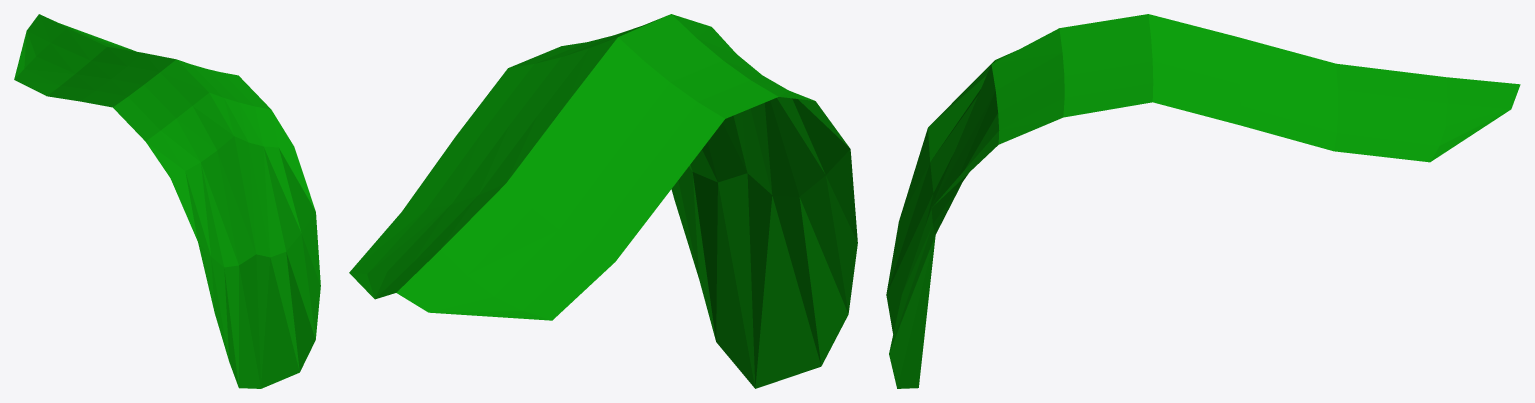
The model's file is Vegetation_Modular_New_Palm_Leaf_03.FBX.
3 views of the same model, side by side, from view 1: azimuth 30°, elevation 25°; view 2: azimuth 150°, elevation 25°; view 3: azimuth 270°, elevation 25° (orthographic). The views are drawn at different scales.
Visible parts, largest first — view 1: Vegetation_Modular_New_Palm_Leaf_03; view 2: Vegetation_Modular_New_Palm_Leaf_03; view 3: Vegetation_Modular_New_Palm_Leaf_03.
Boxes of the visible parts, x1=… form: Vegetation_Modular_New_Palm_Leaf_03: x1=14, y1=14, x2=320, y2=388; Vegetation_Modular_New_Palm_Leaf_03: x1=349, y1=14, x2=857, y2=388; Vegetation_Modular_New_Palm_Leaf_03: x1=886, y1=14, x2=1520, y2=388.
Size of the model in its own units: 505 by 1012 by 1559.
